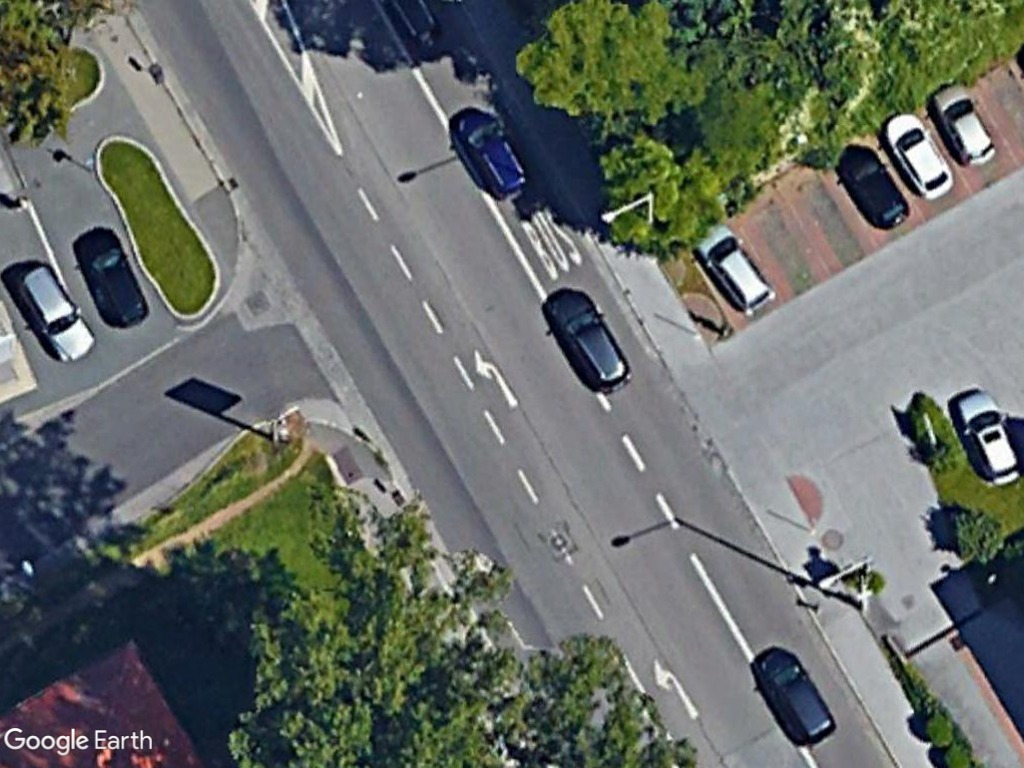car: (541, 283, 636, 398), (446, 100, 537, 205), (14, 256, 96, 366), (690, 221, 779, 319), (70, 220, 148, 327), (955, 385, 1024, 492), (835, 141, 911, 235), (883, 108, 959, 201), (929, 80, 1000, 173)
van: (752, 640, 838, 747)
